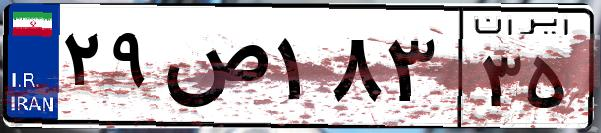1: (270, 28, 330, 110)
2: (57, 26, 110, 100)
3: (385, 28, 445, 110), (475, 38, 525, 113)
5: (525, 38, 570, 115)
8: (330, 28, 385, 110)
9: (110, 28, 158, 98)
ص: (158, 20, 270, 120)
